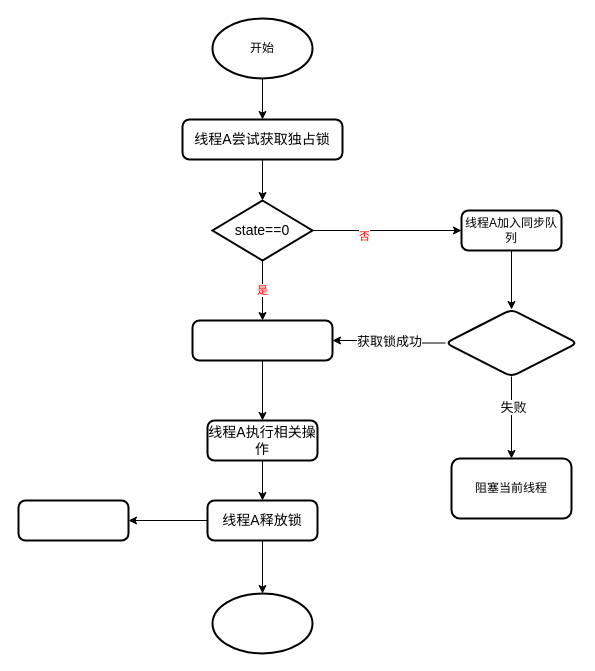
Image size: 595x671. Some labels were removed from this diagram. Each missing label, with the centre of its shape:
唤醒同步队列的第一个有效节点: the point at 73,520
在队列里再次尝试获取锁: the point at 511,342
结束: the point at 262,623
通过cas操作设置state=1: the point at 262,340
